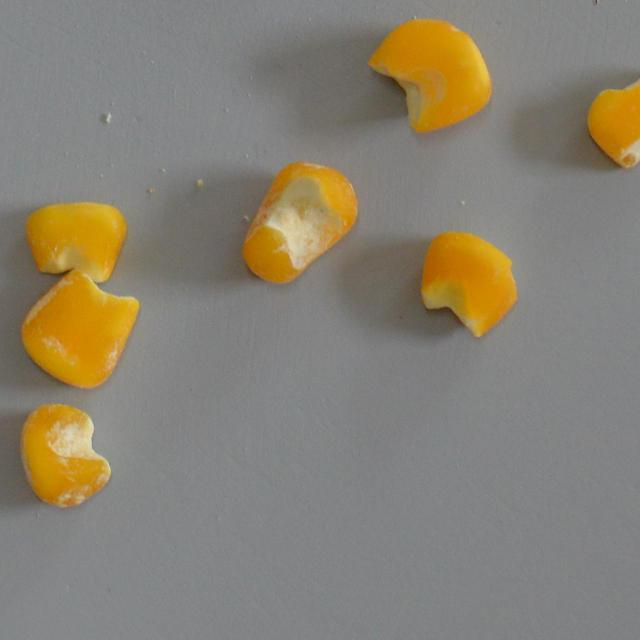dañado: (365, 10, 498, 138), (16, 266, 140, 394), (416, 224, 525, 344), (14, 397, 116, 512), (20, 193, 132, 288), (580, 60, 640, 176)
punto_negro: (238, 157, 360, 290)
